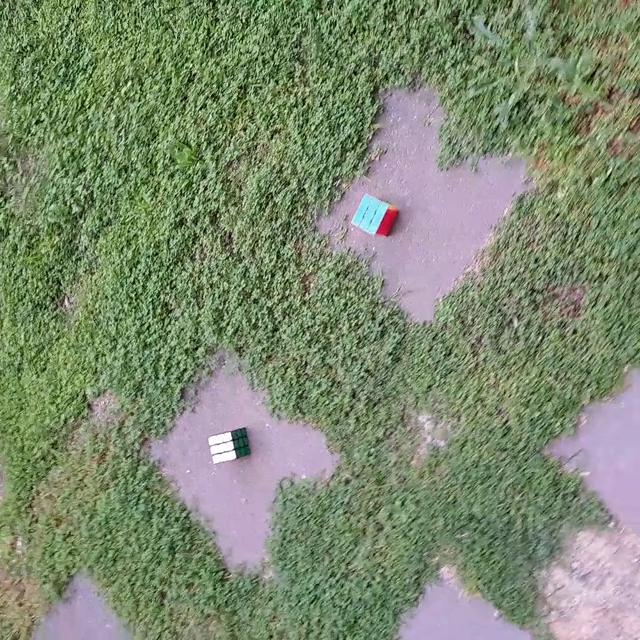rubix_cube: (349, 192, 401, 240), (205, 425, 252, 466)
